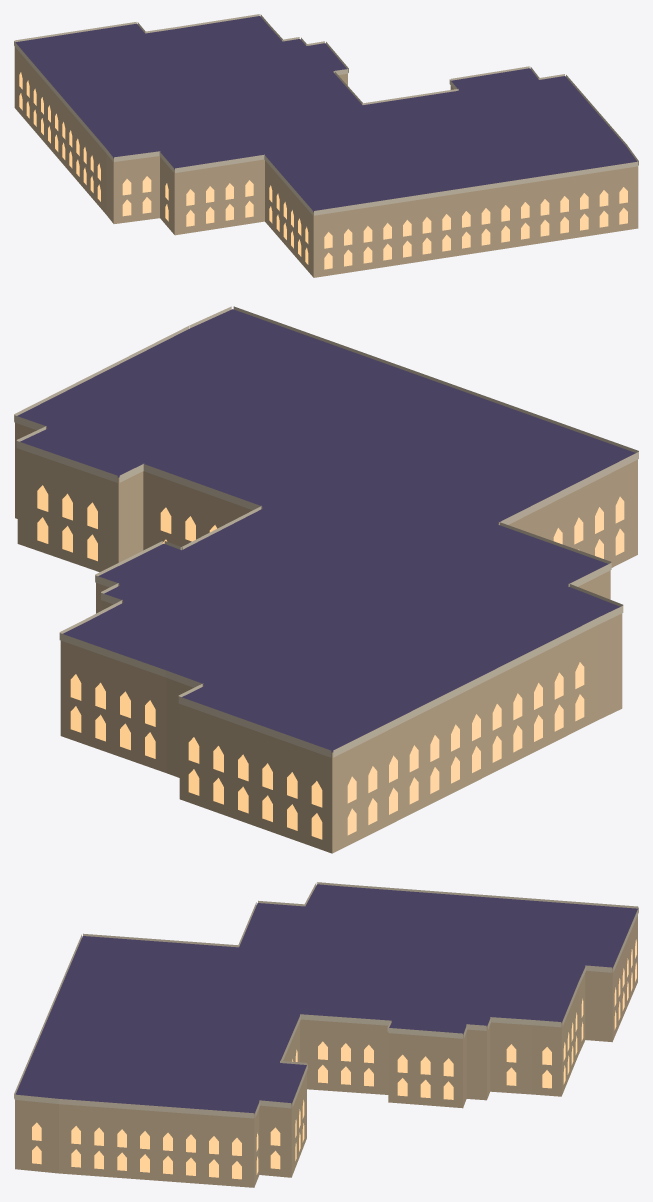
File: core-somerville-house.glb
3 renders of one model, top to bottom at view 1: azimuth 30°, elevation 25°; view 2: azimuth 150°, elevation 25°; view 3: azimuth 270°, elevation 25°, orthographic. The views are drawn at different scales.
Visible parts, largest first — view 1: campus/core-somerville-house-0; view 2: campus/core-somerville-house-0; view 3: campus/core-somerville-house-0.
Boxes of the visible parts, x1=… form: campus/core-somerville-house-0: x1=14, y1=14, x2=638, y2=277; campus/core-somerville-house-0: x1=14, y1=306, x2=638, y2=853; campus/core-somerville-house-0: x1=14, y1=882, x2=638, y2=1187.
Bounding box in the file's own units: 70.32 × 10.65 × 80.38.
